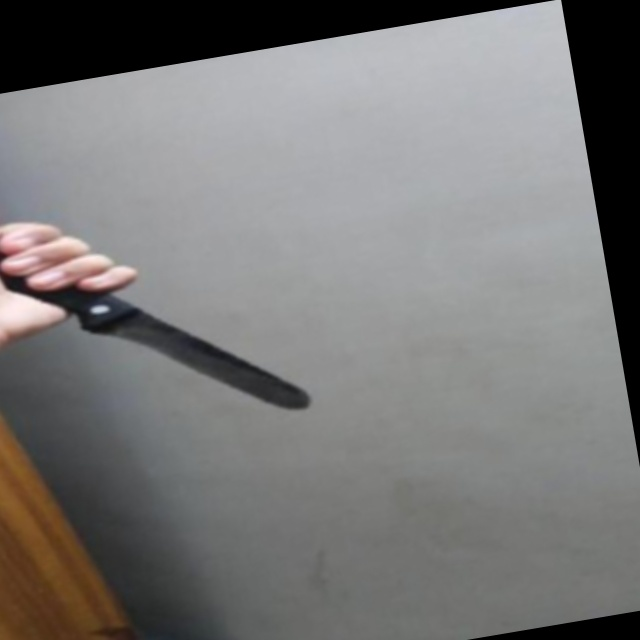Sharp-Object: (0, 182, 310, 462)
